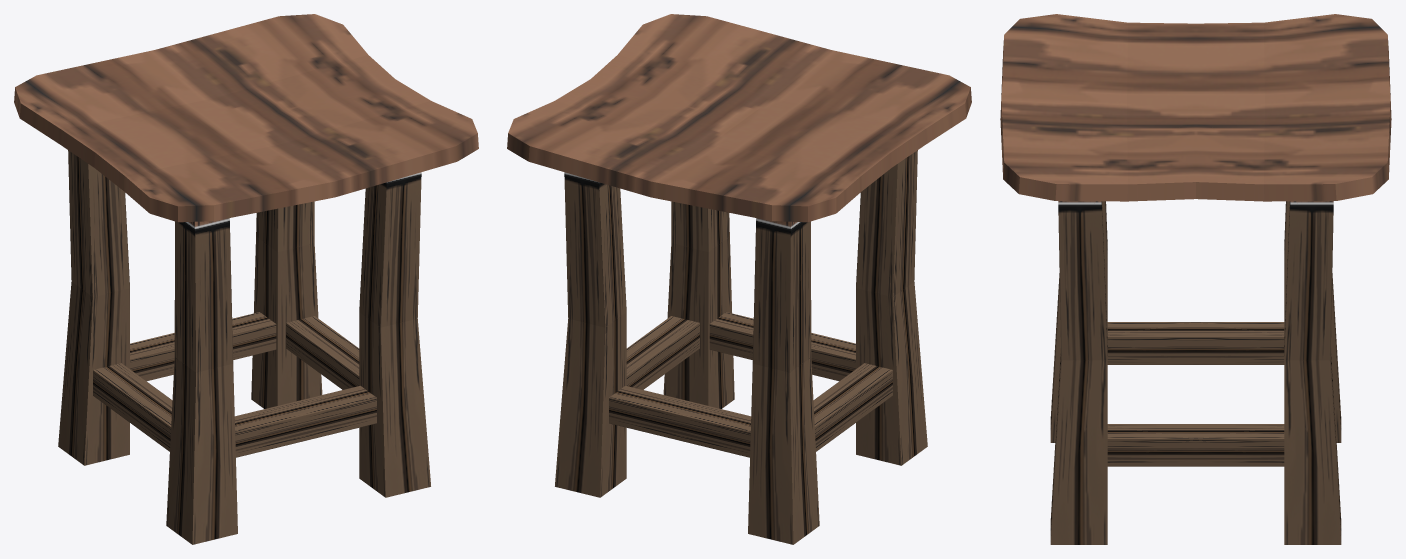
File: furniture_bench_small_02.fbx
The picture shows the model from 3 angles, left to right: view 1: azimuth 30°, elevation 25°; view 2: azimuth 150°, elevation 25°; view 3: azimuth 270°, elevation 25°; orthographic projection. The views are drawn at different scales.
Parts seen in each view (by area): view 1: furniture_bench_small_02; view 2: furniture_bench_small_02; view 3: furniture_bench_small_02.
Boxes of the visible parts, box(x1,y1,x2,y2) form: furniture_bench_small_02: box(14, 14, 478, 544); furniture_bench_small_02: box(507, 14, 971, 544); furniture_bench_small_02: box(1000, 14, 1391, 544).
Size of the model in its own units: 0.4915 by 0.5169 by 0.4758.
Materials: 1 (1 with a texture image).
